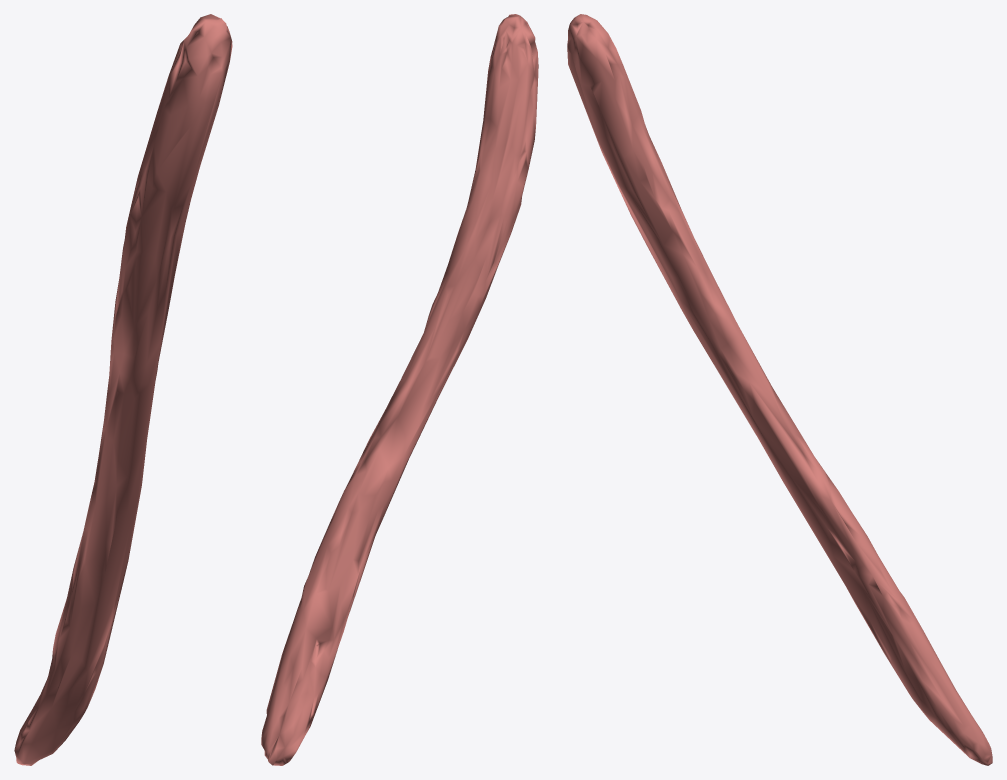
3 views of the same model, side by side, from view 1: azimuth 30°, elevation 25°; view 2: azimuth 150°, elevation 25°; view 3: azimuth 270°, elevation 25° (orthographic). The views are drawn at different scales.
Visible parts, largest first — view 1: ZA_9e1e4ba8ec60e11d; view 2: ZA_9e1e4ba8ec60e11d; view 3: ZA_9e1e4ba8ec60e11d.
Boxes of the visible parts, x1,y1,x2,y2 form: ZA_9e1e4ba8ec60e11d: (14,14,232,765); ZA_9e1e4ba8ec60e11d: (261,14,538,765); ZA_9e1e4ba8ec60e11d: (567,14,992,765).
Bounding box in the file's own units: 0.00424 × 0.0234 × 0.0126.
